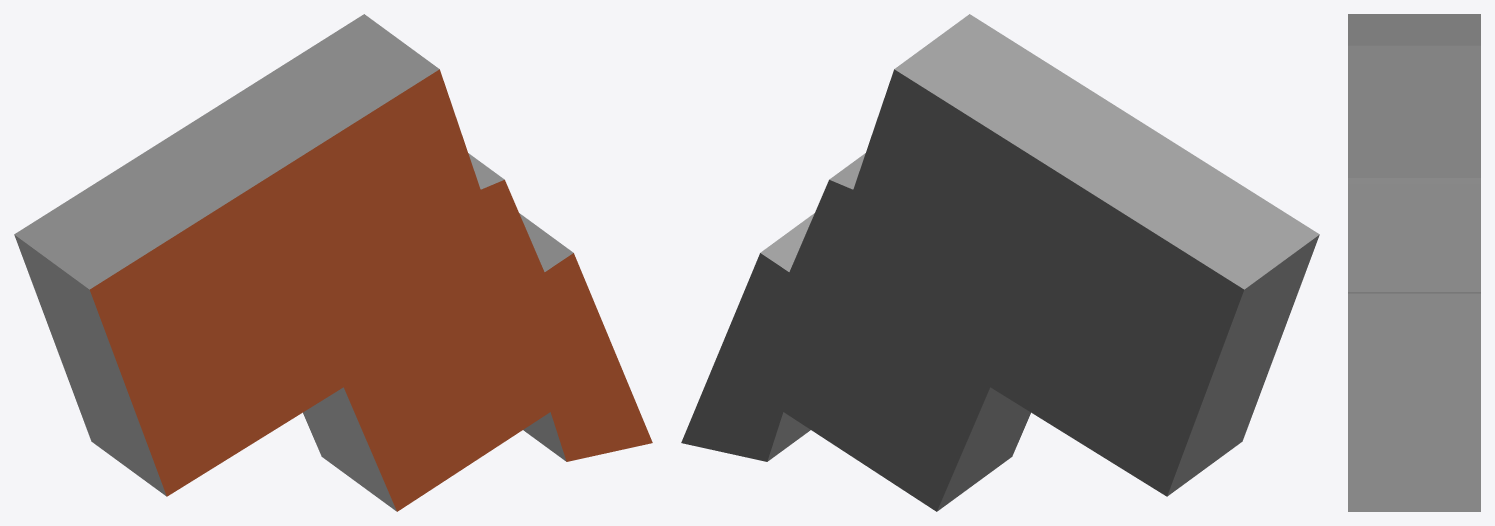
File: construction_6109_assumed_A_Casa_h6m.obj
3 renders of one model, left to right at view 1: azimuth 30°, elevation 25°; view 2: azimuth 150°, elevation 25°; view 3: azimuth 270°, elevation 25°, orthographic. The views are drawn at different scales.
Parts seen in each view (by area): view 1: construction_6109_assumed_A_Casa; view 2: construction_6109_assumed_A_Casa; view 3: construction_6109_assumed_A_Casa.
Boxes of the visible parts, x1,y1,x2,y2 form: construction_6109_assumed_A_Casa: (14, 14, 652, 511); construction_6109_assumed_A_Casa: (681, 14, 1319, 511); construction_6109_assumed_A_Casa: (1348, 14, 1480, 511).
Bounding box in the file's own units: 25.85 × 18.96 × 6.
